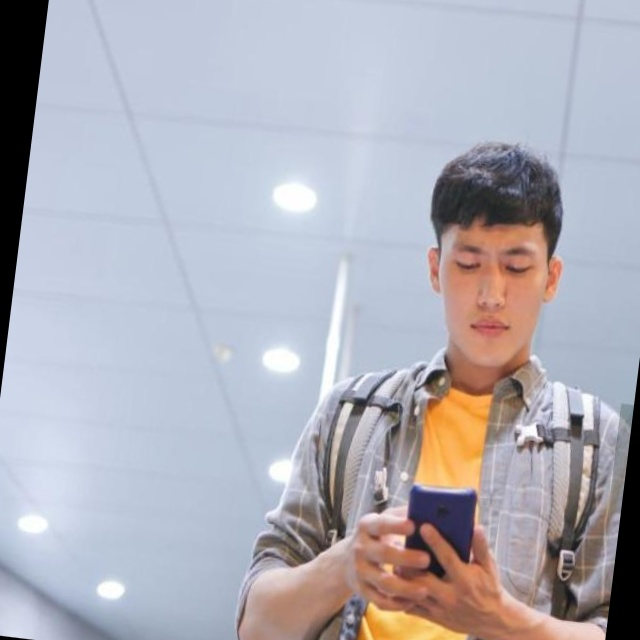Sin_Casco_Mascarrilla: (414, 136, 577, 370)
Sin_Chaleco: (284, 346, 636, 640)
